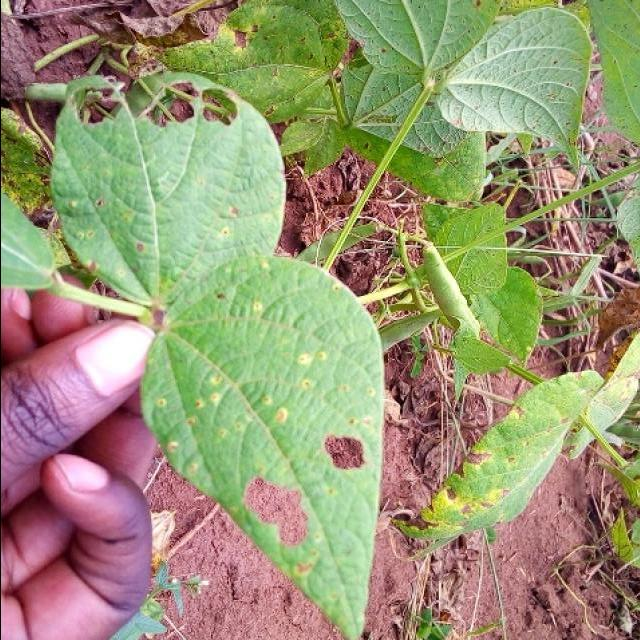mozaik: (53, 67, 249, 171), (211, 443, 329, 568), (291, 399, 383, 485)
